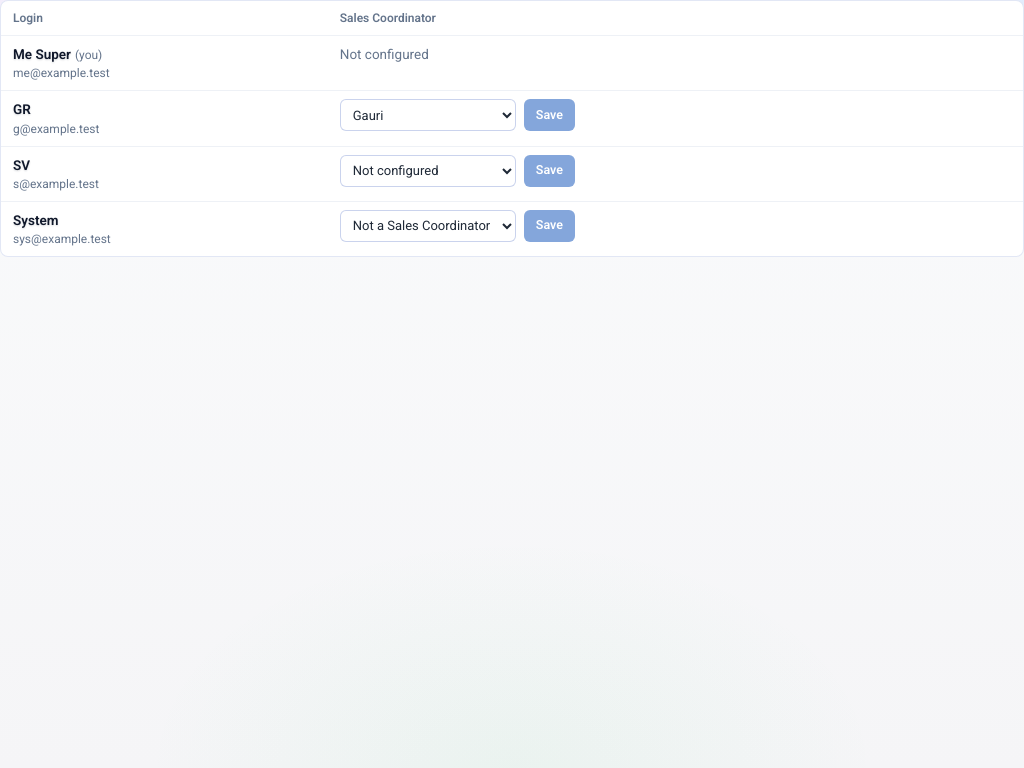
Sales Coordinators admin table › Save sends the choice and the state the admin saw; success refreshes; a refusal is shown
This screenshot has width=1024, height=768.
Expected: the button "Save" in the row of "SV" is disabled, [524,154,575,186]
Select "Savita" in the dropdown named "Sales Coordinator for SV" at (428, 170), box [340,154,516,186]
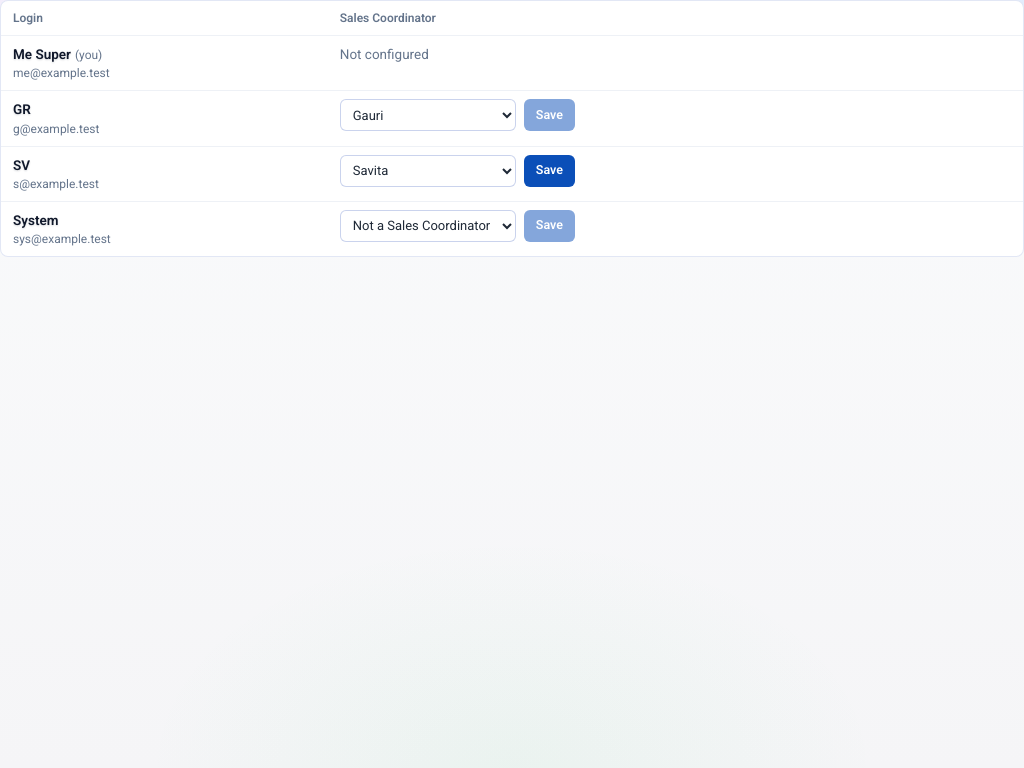
Click the button "Save" in the row of "SV" at (549, 170), box [524,154,575,186]
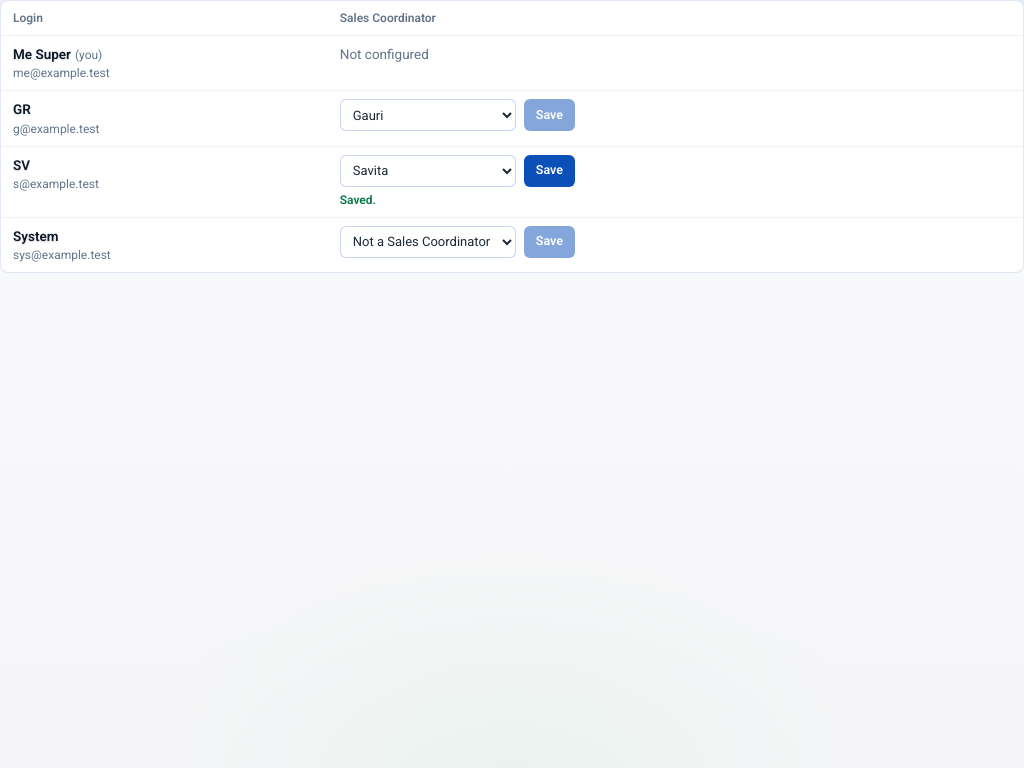
Click the button "Save" in the row of "SV" at (549, 170), box [524,154,575,186]
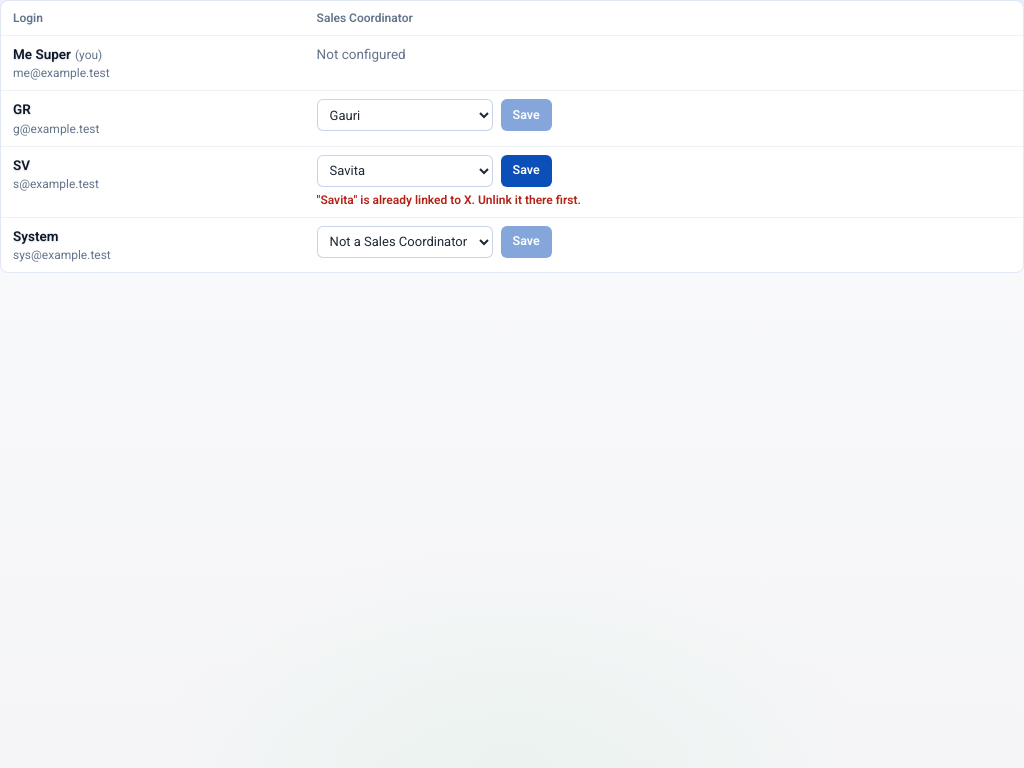
Expected: the message shows "already linked", [317,192,581,206]
